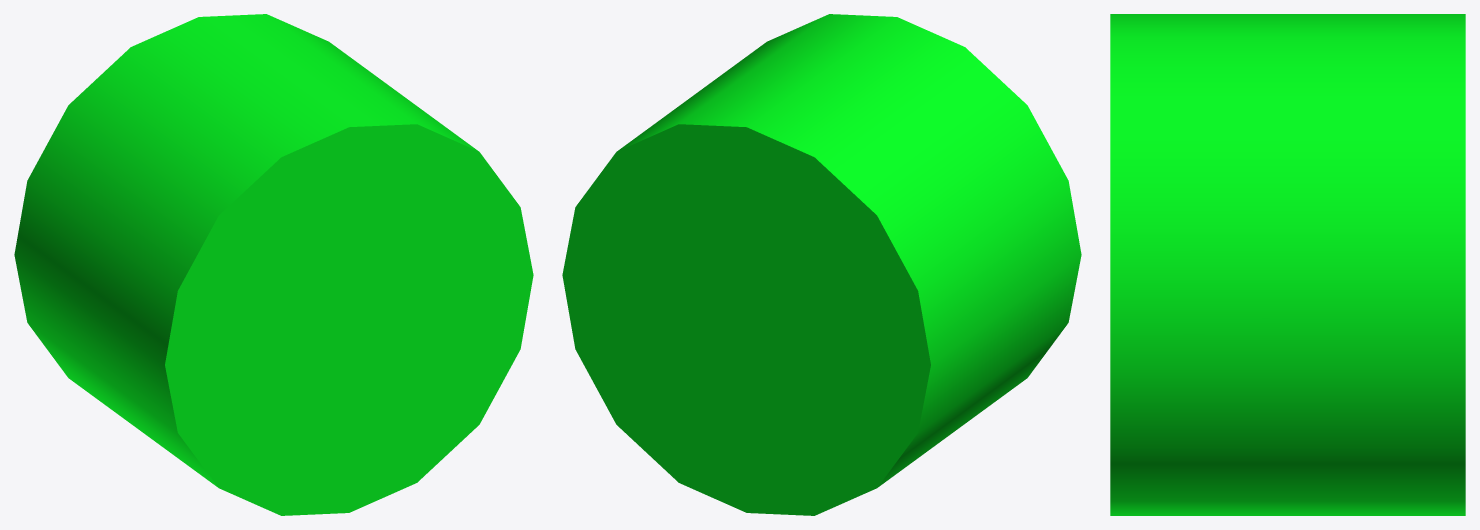
The model's file is left_center_wheel_collision.dae.
3 views of the same model, side by side, from view 1: azimuth 30°, elevation 25°; view 2: azimuth 150°, elevation 25°; view 3: azimuth 270°, elevation 25° (orthographic). The views are drawn at different scales.
Parts seen in each view (by area): view 1: Brep; view 2: Brep; view 3: Brep.
Boxes of the visible parts, left/top/right/bottom form: Brep: left=14, top=14, right=533, bottom=515; Brep: left=562, top=14, right=1081, bottom=515; Brep: left=1110, top=14, right=1465, bottom=515.
Bounding box in the file's own units: 0.0611 × 0.0432 × 0.0611.
